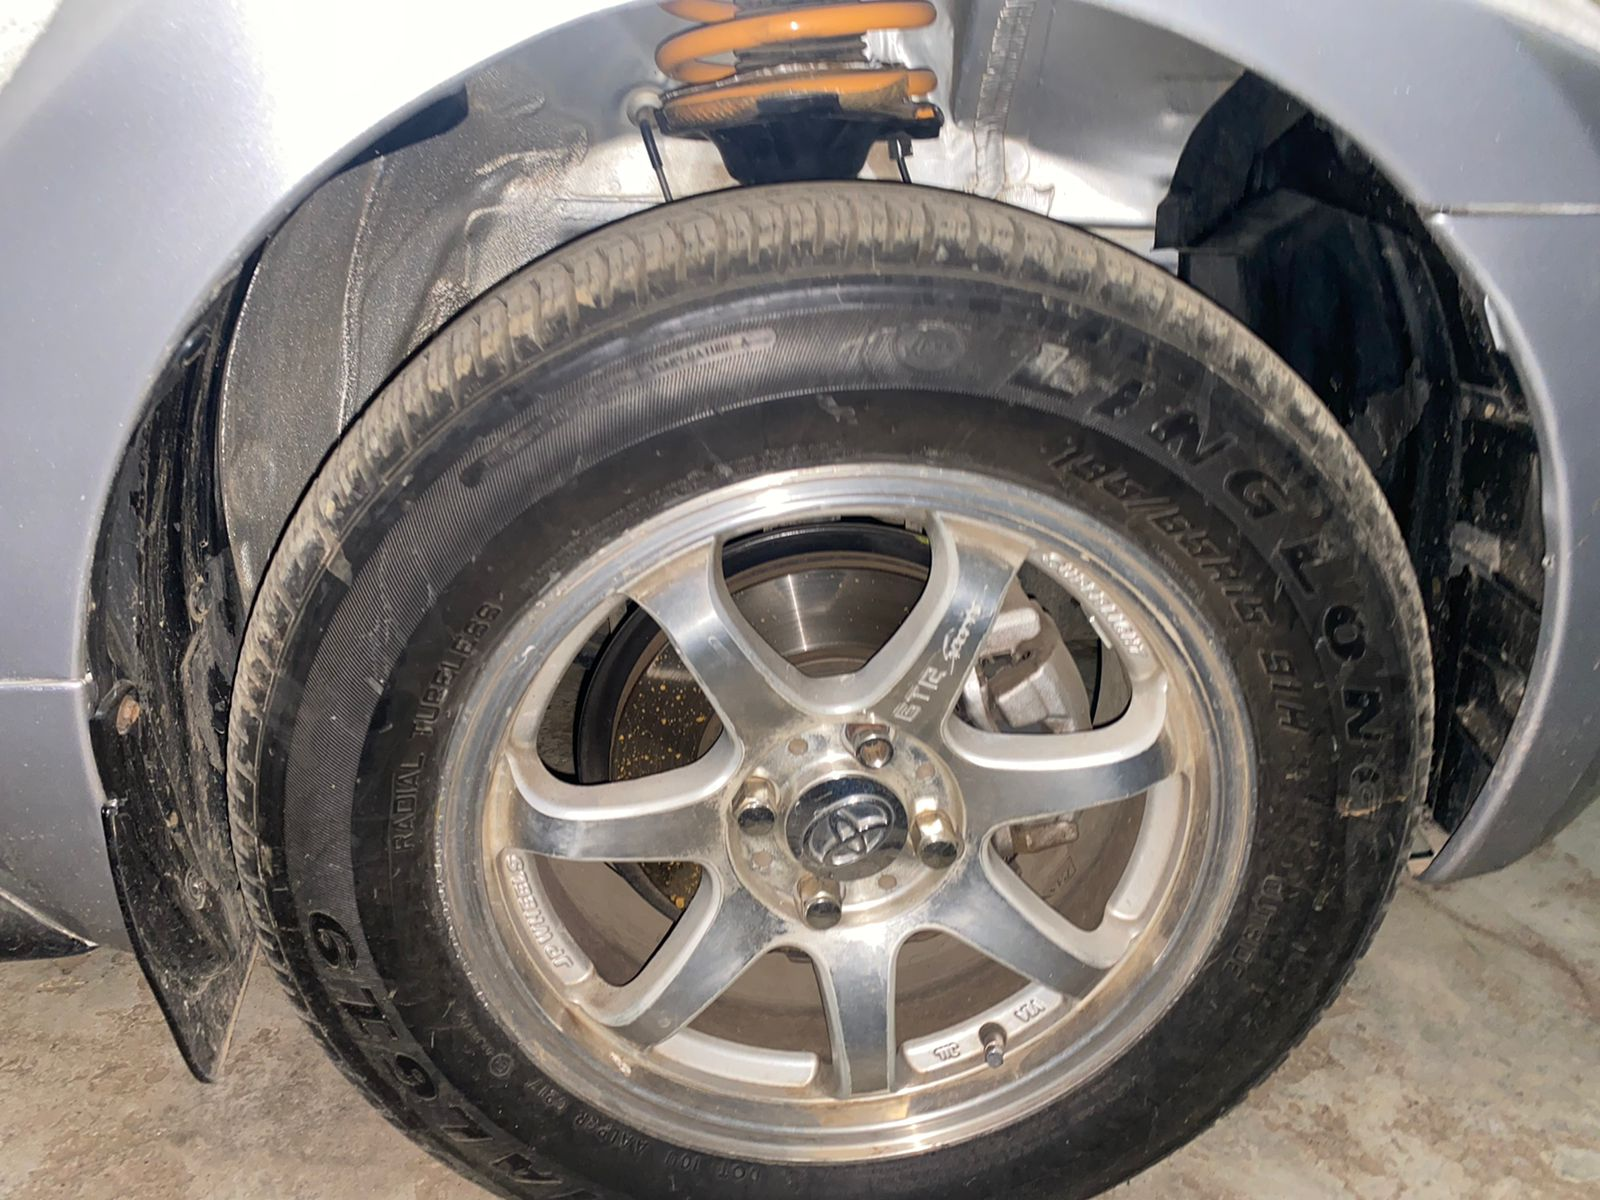wheel: (226, 177, 1437, 1200)
